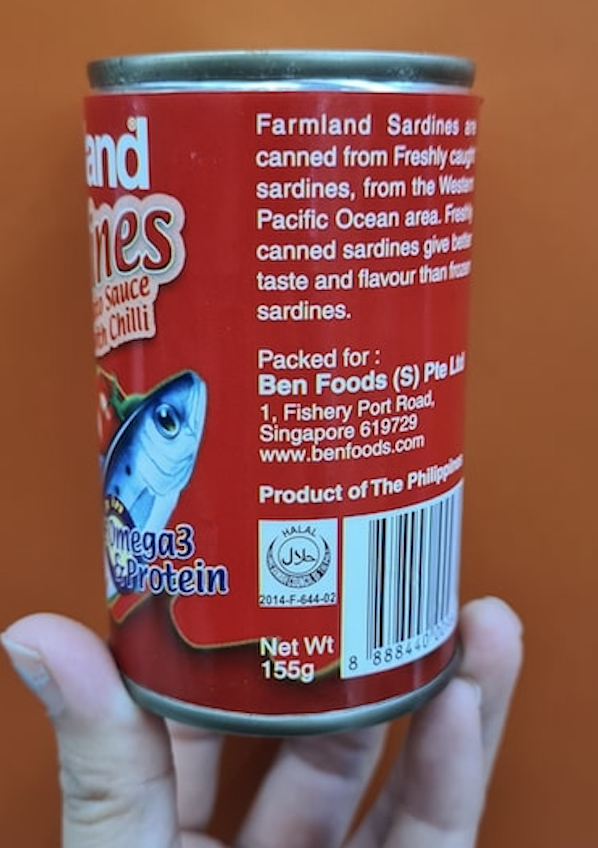Halal: (265, 526, 331, 584)
